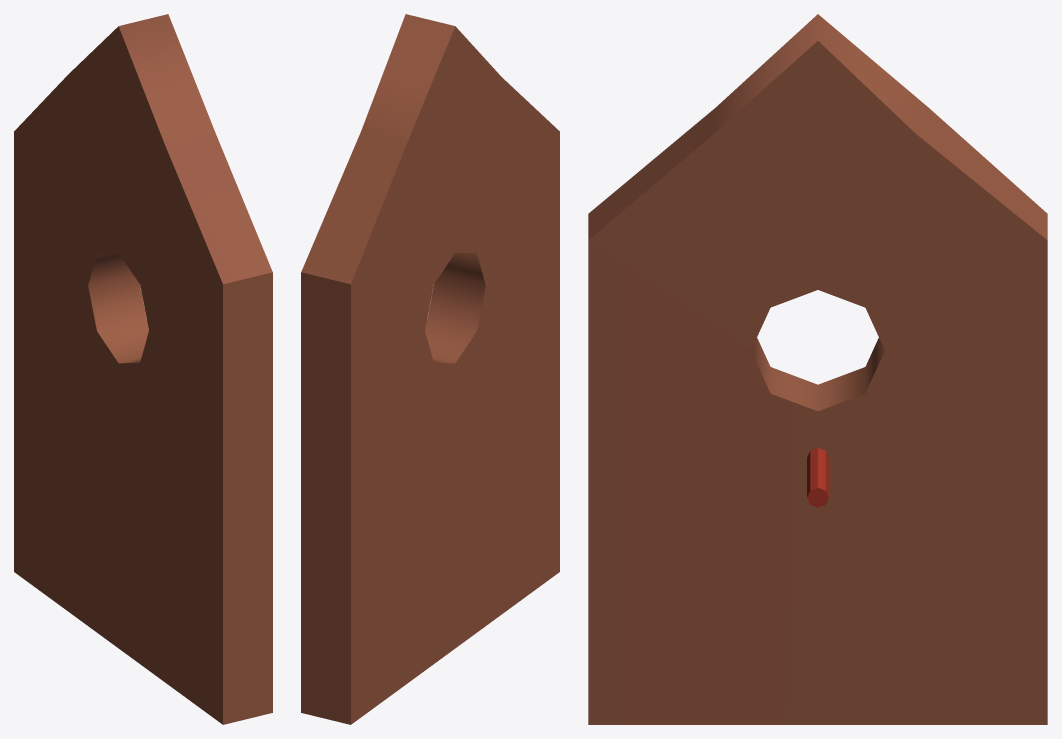
File: CasaRoja_5.FBX
3 views of the same model, side by side, from view 1: azimuth 30°, elevation 25°; view 2: azimuth 150°, elevation 25°; view 3: azimuth 270°, elevation 25° (orthographic). The views are drawn at different scales.
Visible parts, largest first — view 1: CasaRoja_5; view 2: CasaRoja_5; view 3: CasaRoja_5.
Boxes of the visible parts, bbox=[...] form: CasaRoja_5: bbox=[14, 14, 272, 724]; CasaRoja_5: bbox=[301, 14, 559, 724]; CasaRoja_5: bbox=[588, 14, 1047, 724].
Size of the model in its own units: 10.25 by 49.06 by 29.86.
